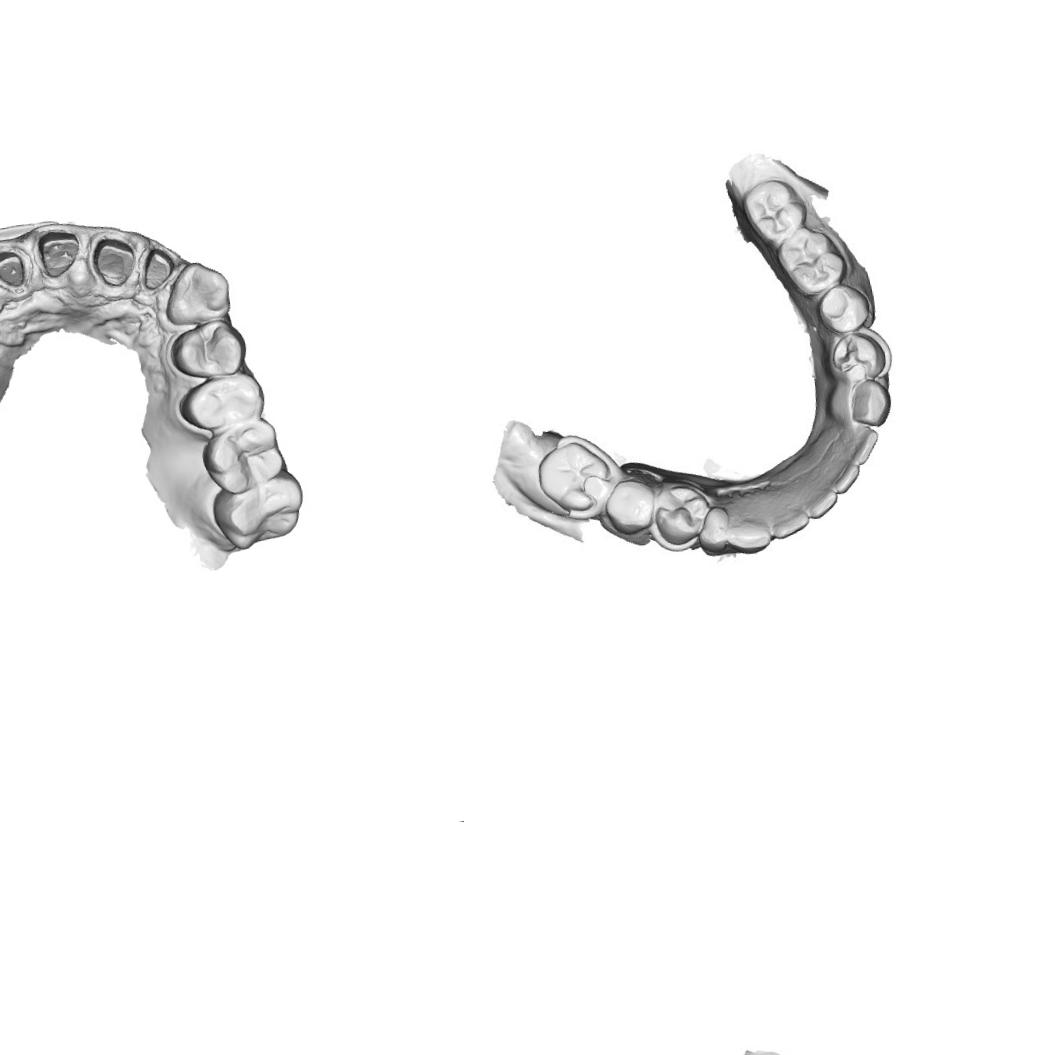canine: (157, 256, 236, 330), (840, 374, 895, 427), (725, 504, 771, 558)
crown: (87, 224, 142, 294), (30, 222, 85, 286), (131, 236, 186, 299), (0, 236, 38, 299)
incisor: (765, 487, 812, 543), (796, 476, 846, 527), (820, 453, 872, 502), (838, 420, 886, 468)
inlay: (832, 334, 878, 380)
molar: (207, 469, 310, 556), (196, 414, 290, 499), (532, 434, 613, 520), (775, 224, 848, 300), (741, 176, 807, 246)
premolar: (172, 368, 270, 436), (166, 314, 250, 384), (649, 479, 714, 551), (598, 472, 660, 542), (816, 282, 874, 336)
